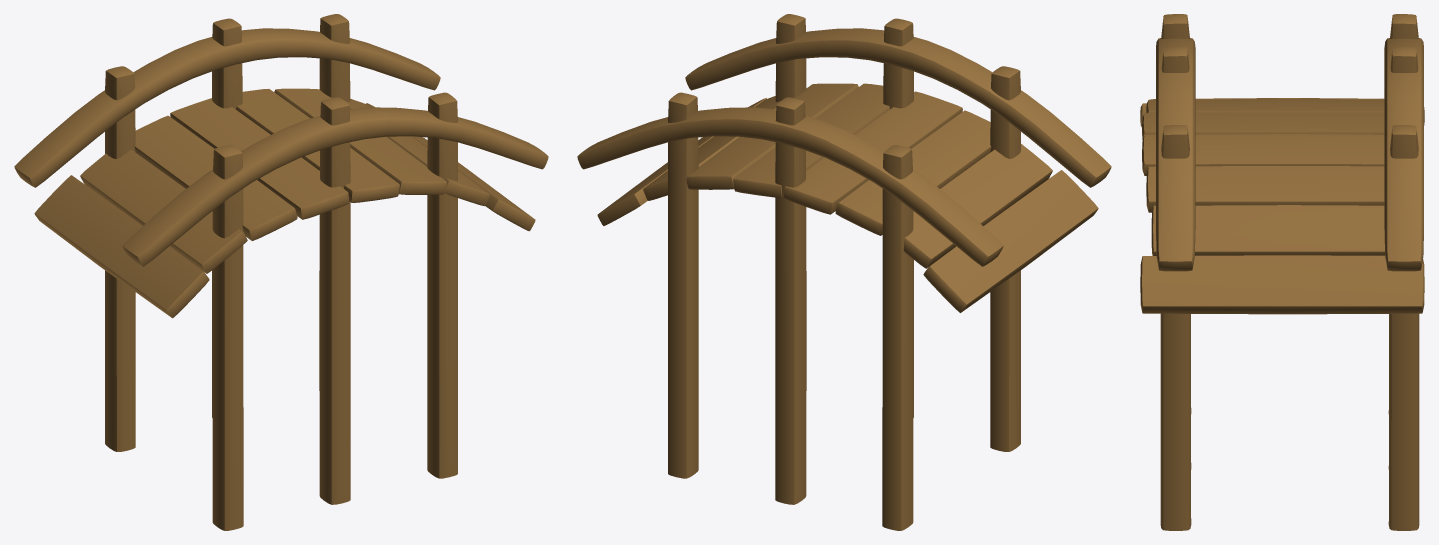
Rendered from Bridge.glb.
3 renders of one model, left to right at view 1: azimuth 30°, elevation 25°; view 2: azimuth 150°, elevation 25°; view 3: azimuth 270°, elevation 25°, orthographic. The views are drawn at different scales.
Parts seen in each view (by area): view 1: Bridge_Small; view 2: Bridge_Small; view 3: Bridge_Small.
Part boxes in pixels (<box>): Bridge_Small: <box>14,14,548,530</box>; Bridge_Small: <box>577,14,1111,530</box>; Bridge_Small: <box>1140,14,1424,530</box>.
Size of the model in its own units: 6.94 by 6.38 by 3.91.
